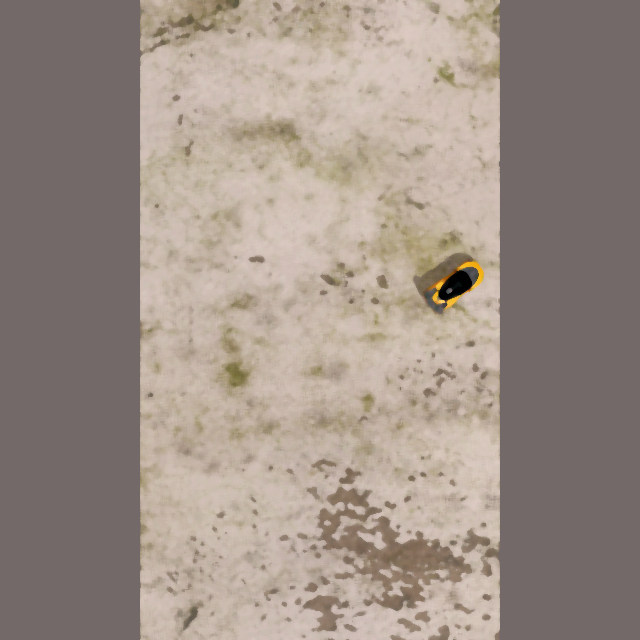car: (417, 253, 492, 318)
